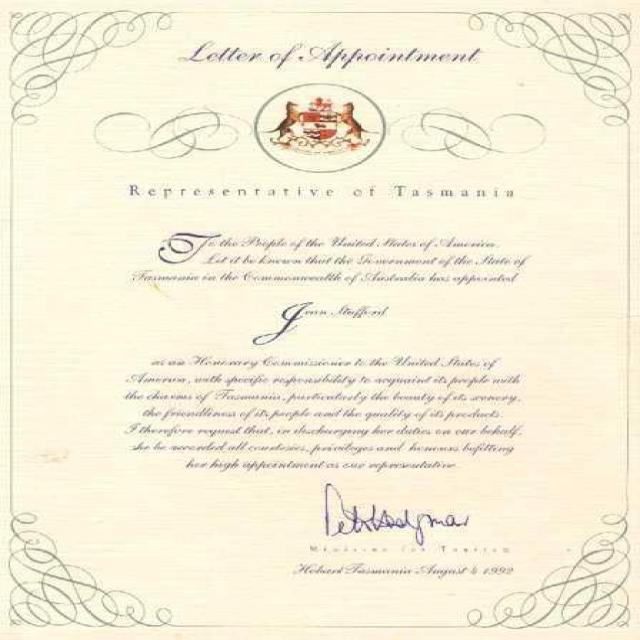signature: (314, 481, 466, 545)
